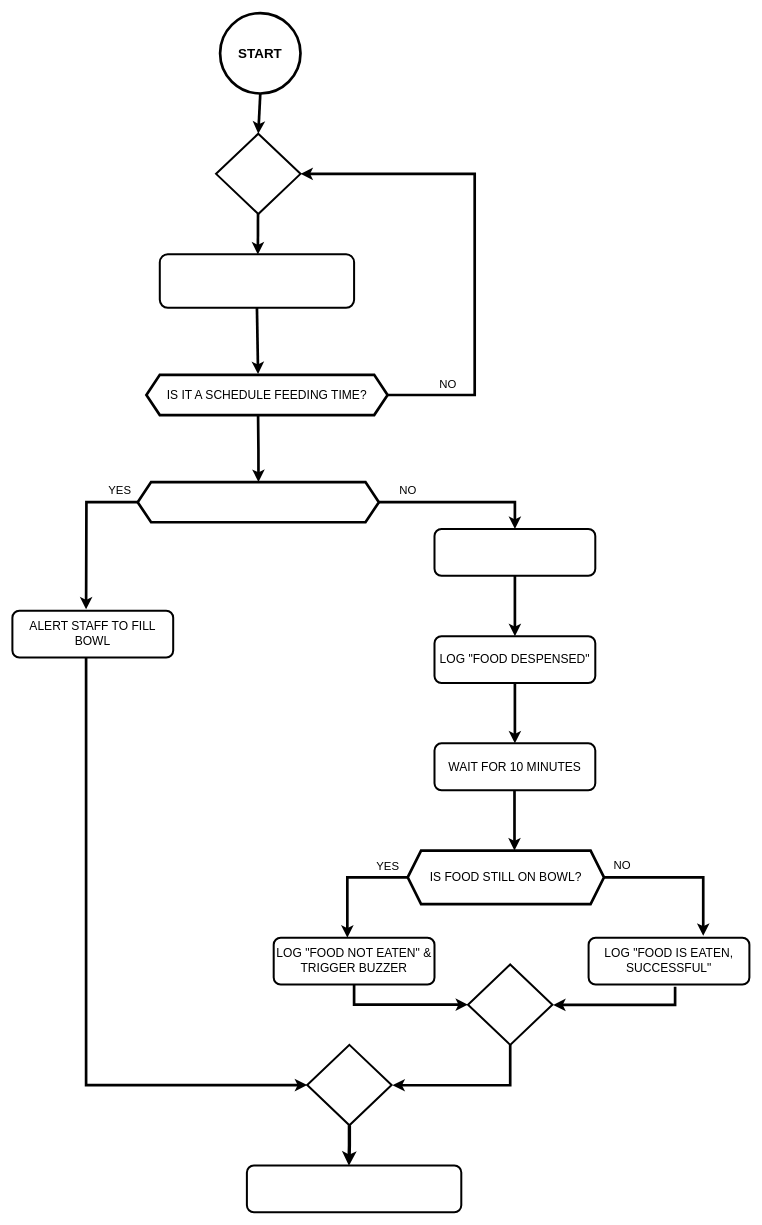
Image size: 762x1225. Some labels were removed from this diagram. Each missing label, with the centre of its shape:
"ACTIVATE MOTOR TO DISPENSE FOOD" belongs at pixel 514 552.
"CHECK CURRENT TIME" belongs at pixel 256 281.
"IS THE BOWL EMPTY?" belongs at pixel 258 501.
"PREPARE FOR NEXT FEEDING / RETURN TO IDLE" belongs at pixel 354 1188.
